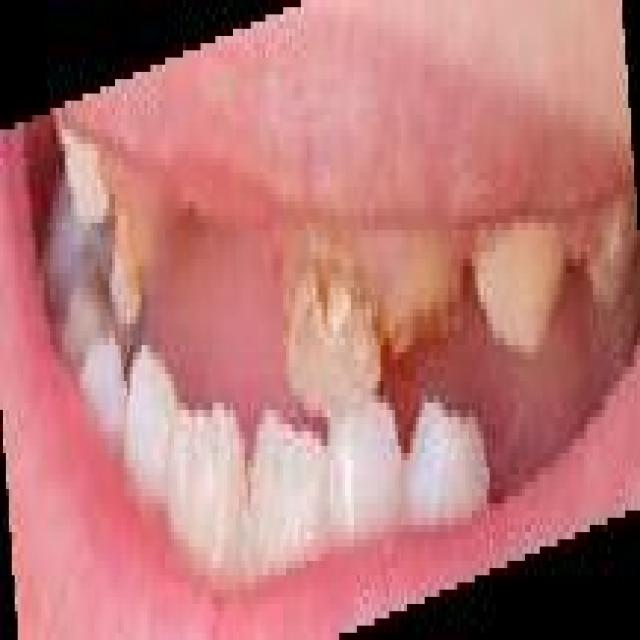caries: (380, 242, 467, 385), (105, 176, 155, 326)
